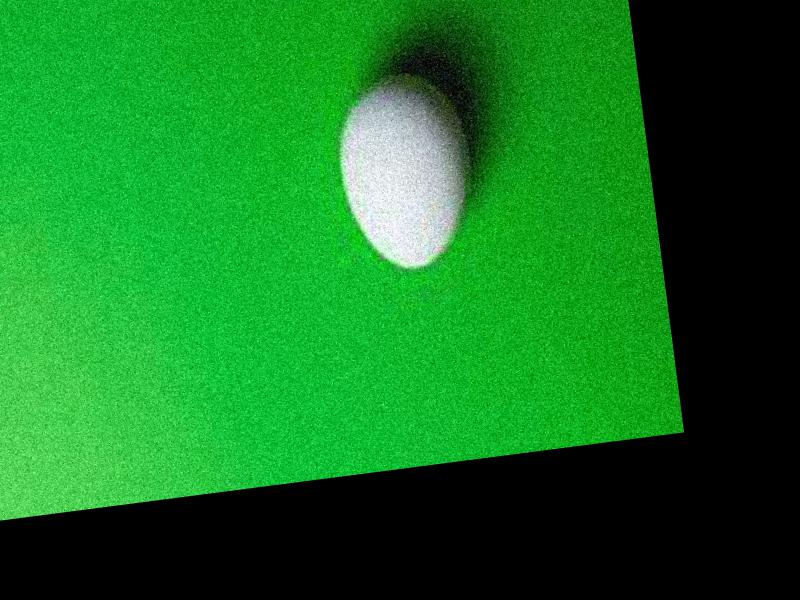Eggs: (332, 66, 481, 276)
